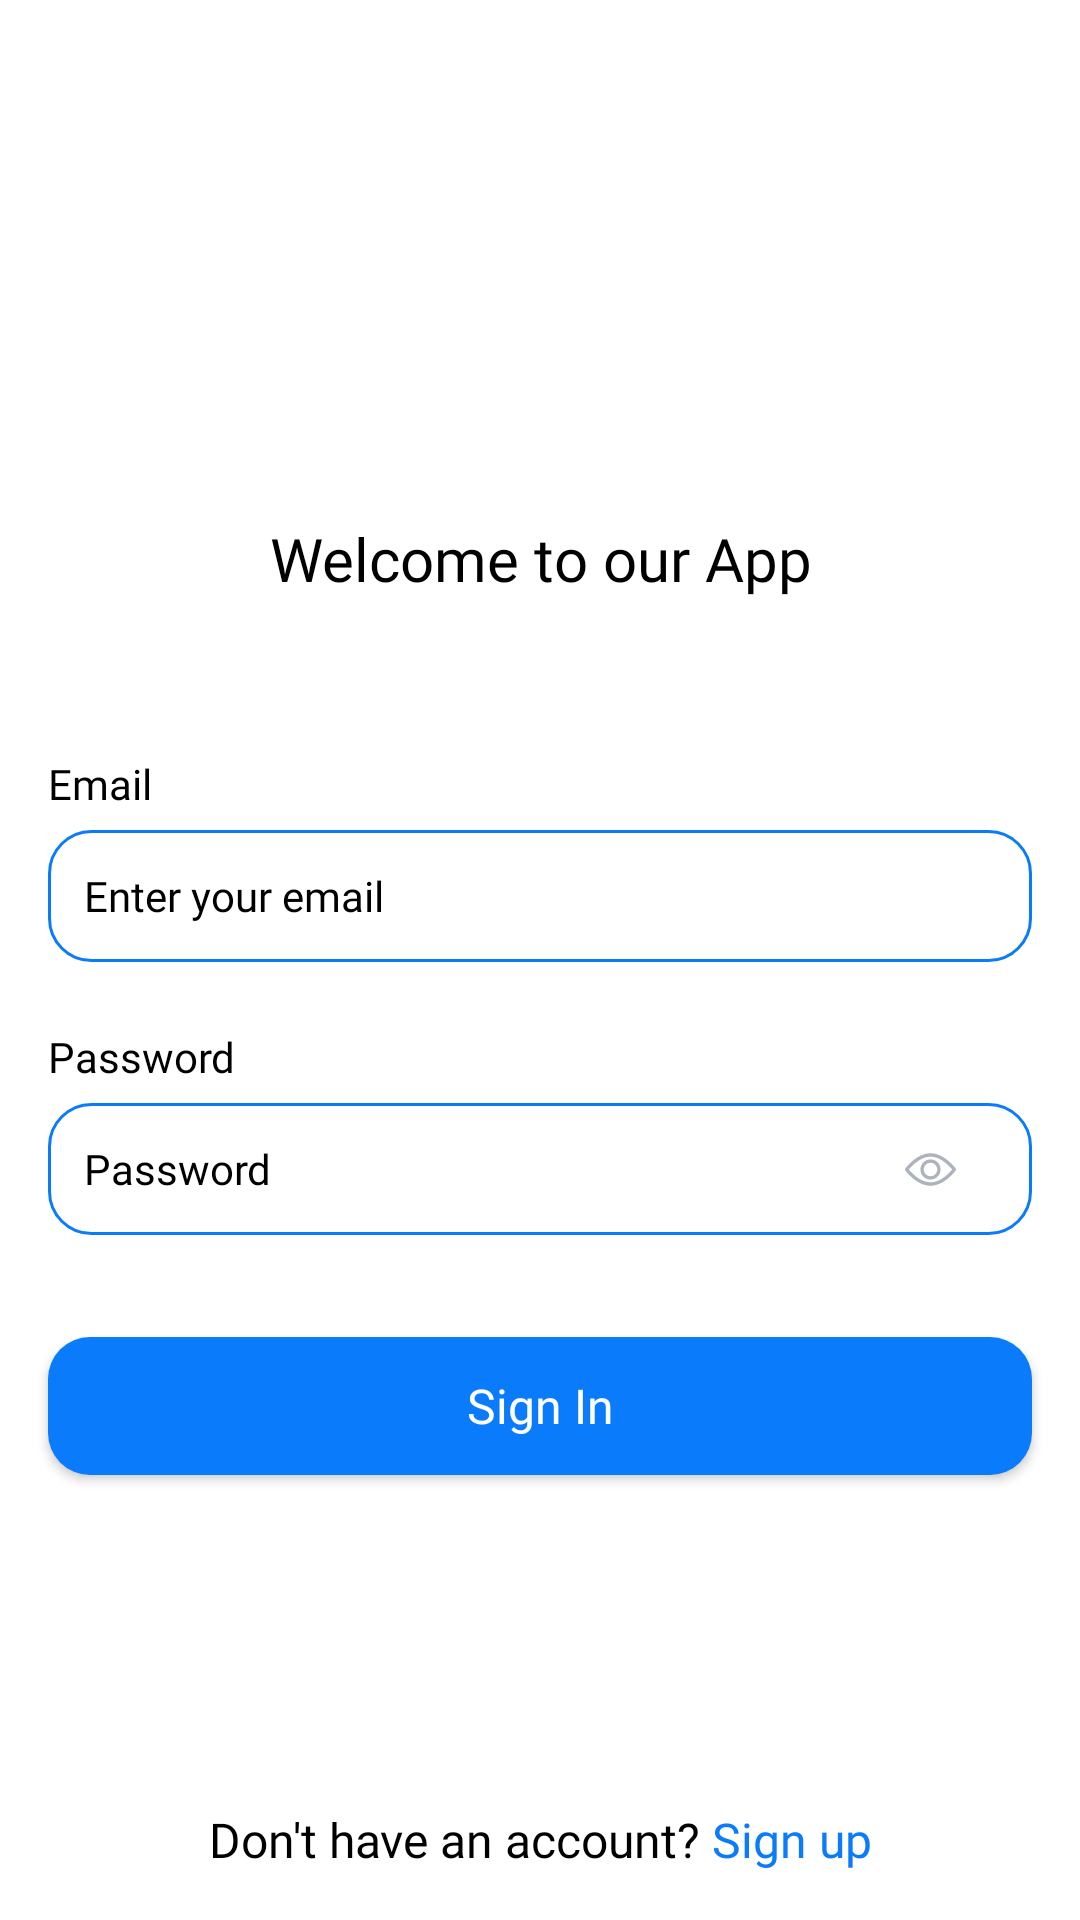

Icon bounding boxes for this 1080w x 1920h phone screenshot, format bbox=[x1, y1, x2, y2]:
reveal eye: bbox=[905, 1153, 956, 1186]
